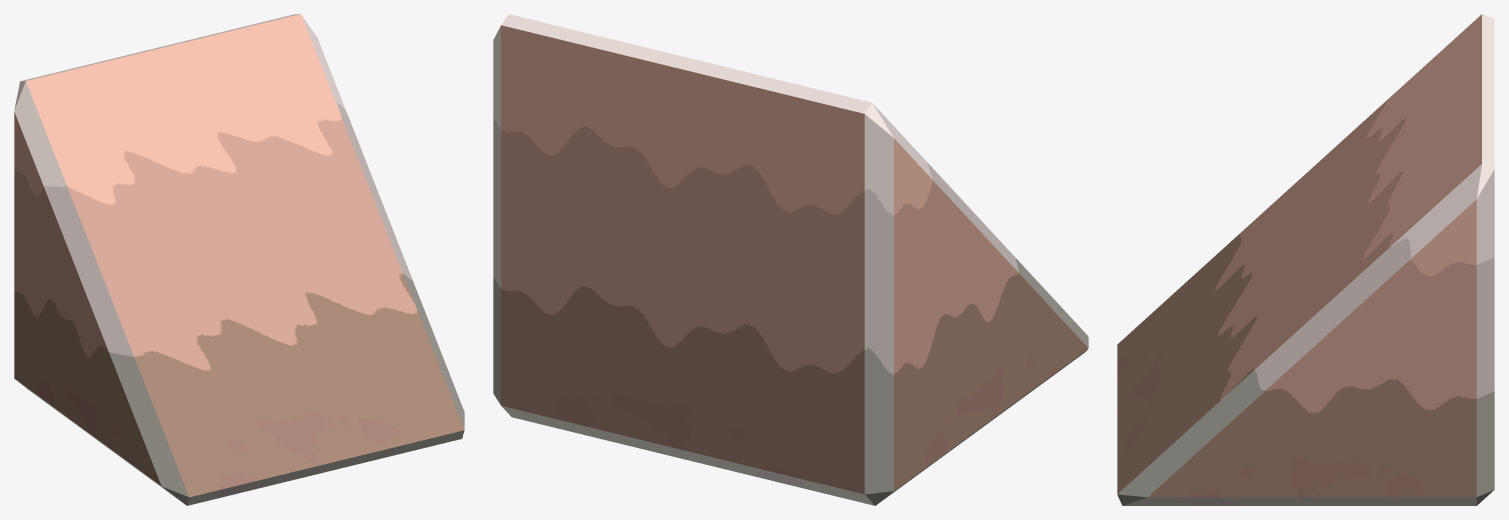
Rendered from R4B_Wedge_LOD1.glb.
3 views of the same model, side by side, from view 1: azimuth 30°, elevation 25°; view 2: azimuth 150°, elevation 25°; view 3: azimuth 270°, elevation 25° (orthographic). The views are drawn at different scales.
Parts seen in each view (by area): view 1: R4B_Wedge_LOD1; view 2: R4B_Wedge_LOD1; view 3: R4B_Wedge_LOD1.
Boxes of the visible parts, left/top/right/bottom form: R4B_Wedge_LOD1: left=14, top=14, right=464, bottom=505; R4B_Wedge_LOD1: left=493, top=14, right=1088, bottom=505; R4B_Wedge_LOD1: left=1117, top=14, right=1494, bottom=505.
Size of the model in its own units: 0.52 by 0.503 by 0.503.
2 materials, 2 textured.
